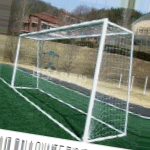goals: (11, 17, 135, 142)
